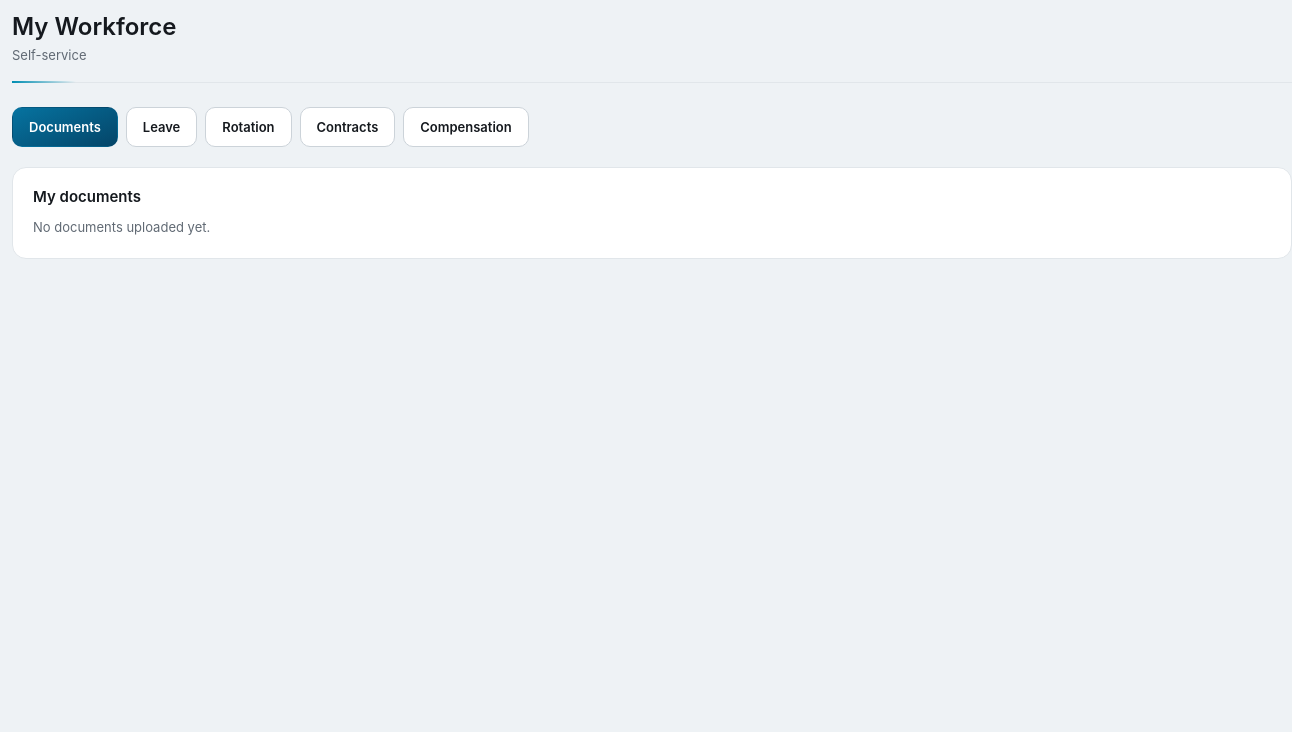
Scenario: MyWorkforcePage Leave tab: view/create/cancel are independently permission-gated › 2. view + create: history loads, leave types load, Apply form and Submit are visible
Step 1. Click the button "Leave" → (162, 126), box [126,106,197,146]
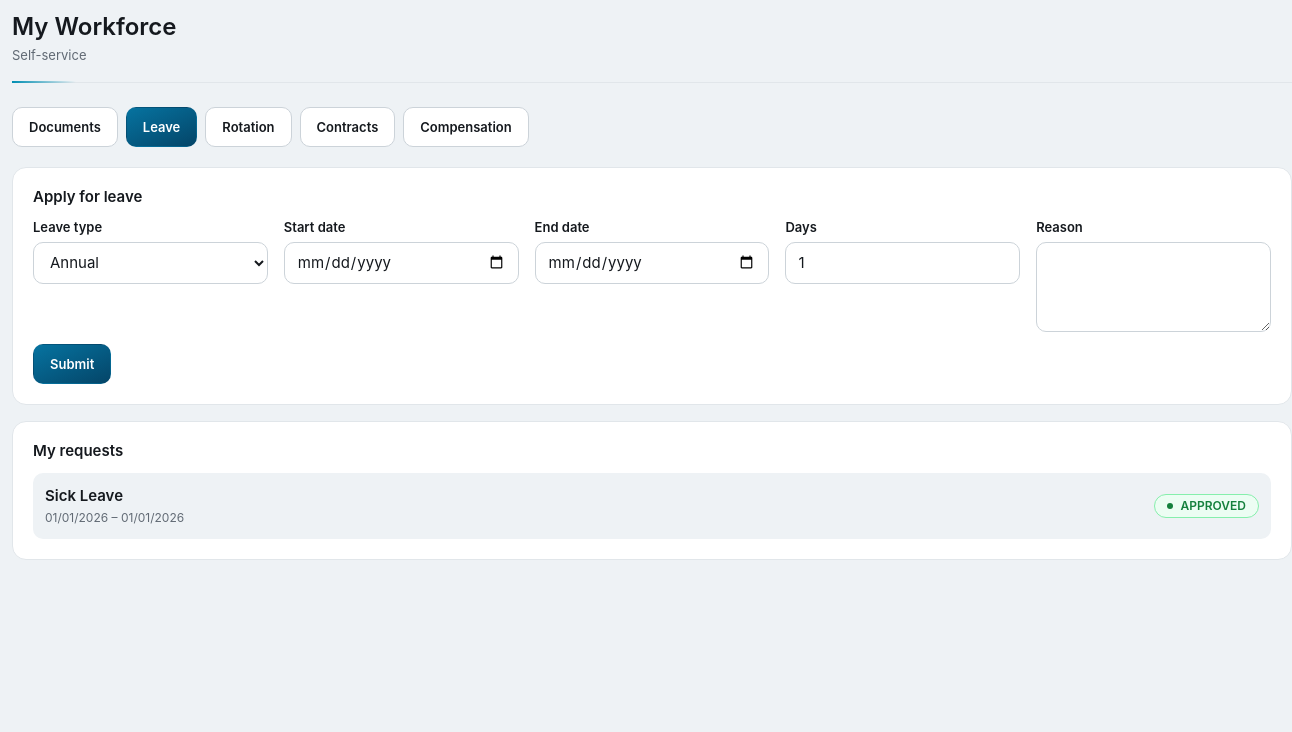
Check: the heading "My requests" is shown, box [33,441,123,460]
Check: the text "Sick Leave" is shown, box [45,486,123,504]
Check: the heading "Apply for leave" is shown, box [33,186,142,206]
